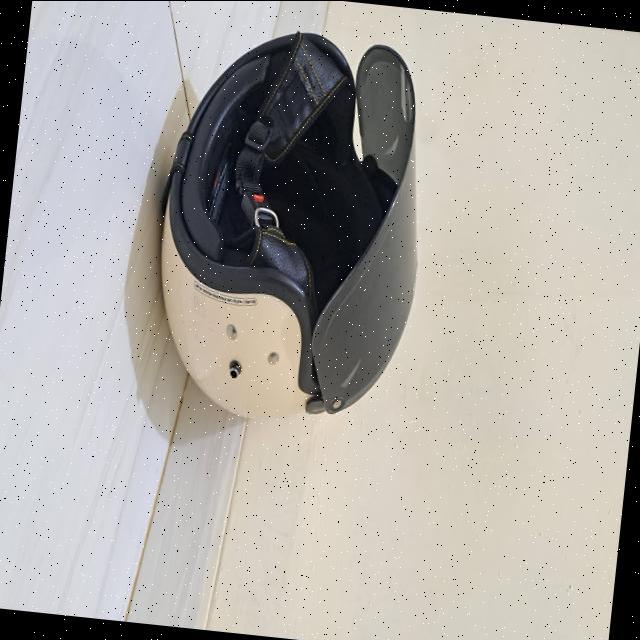Helm: (135, 1, 448, 452)
